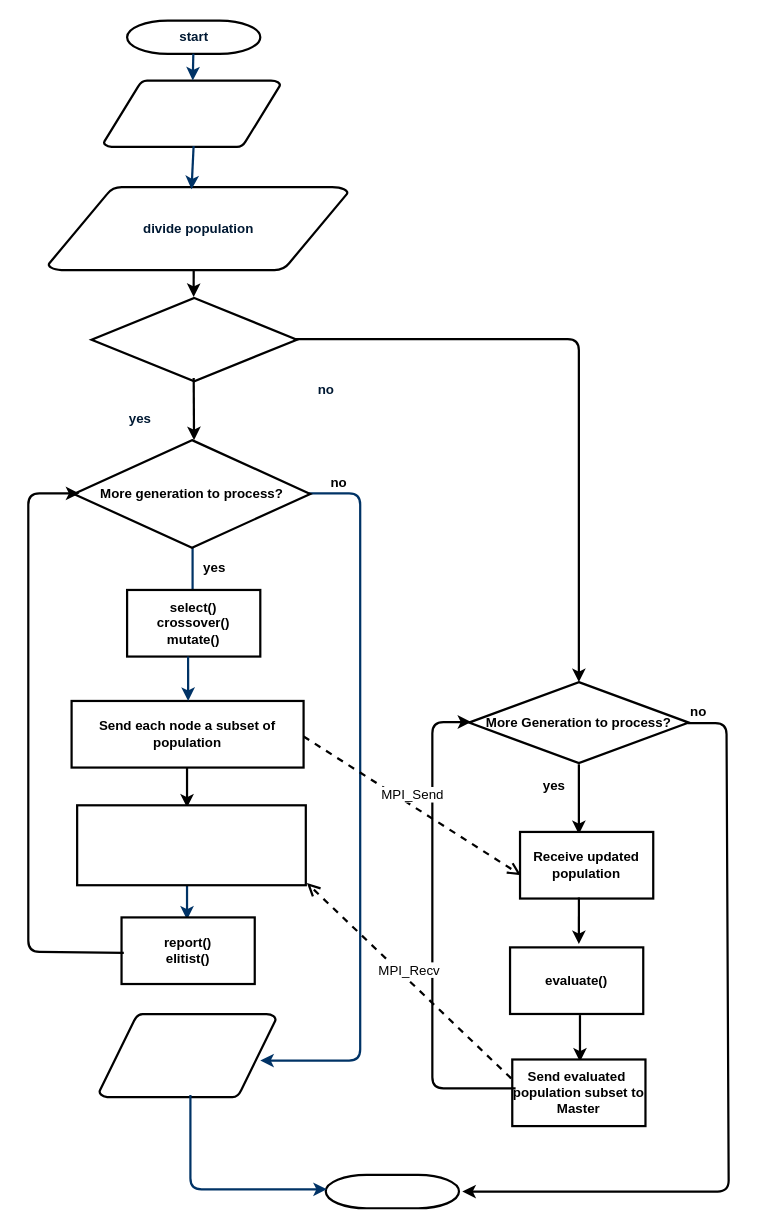
This 757x1228 diagram has some shape labels left out. Each missing label, with the centre of its shape:
"Create final report" belongs at (187,1055).
"end" belongs at (392,1191).
"Initialize MPI environment" belongs at (191,113).
"mpi_rank == master" belongs at (193,339).
"Receive population subset from each node" belongs at (190,845).
